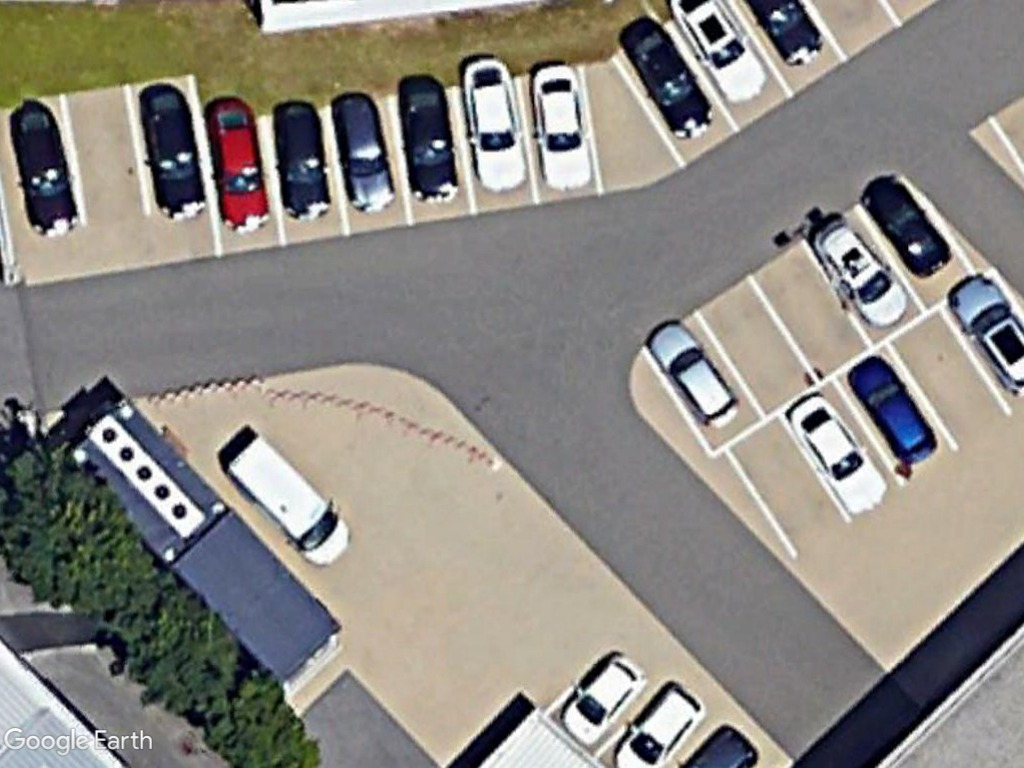bus: (67, 404, 349, 700)
car: (781, 391, 891, 522), (614, 16, 715, 143), (842, 351, 942, 473), (810, 211, 911, 331), (641, 318, 744, 435), (2, 100, 81, 239), (852, 175, 956, 280), (137, 78, 208, 224), (203, 93, 274, 236), (460, 52, 528, 197), (525, 55, 593, 197), (558, 649, 650, 749), (607, 680, 711, 768), (397, 70, 463, 208), (331, 89, 401, 219), (273, 94, 334, 226)
van: (215, 429, 352, 569)
